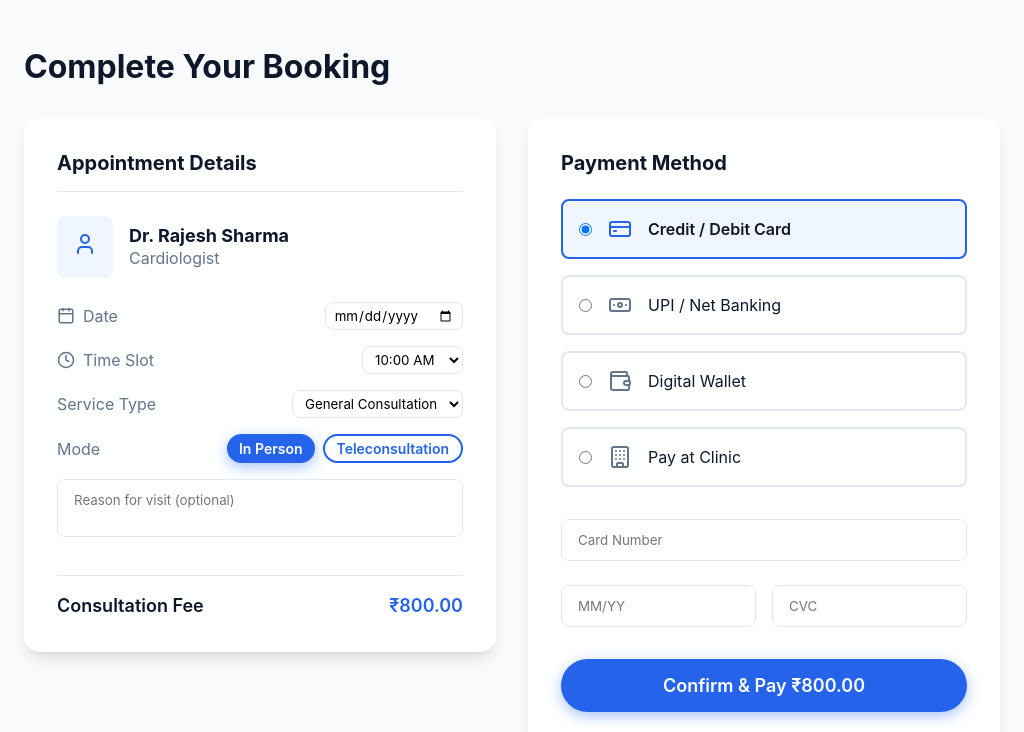
it: Checkout appointment booking form › validates required appointment date
Click the button "Confirm & Pay ₹800.00" at (764, 686), box [561,659,967,712]
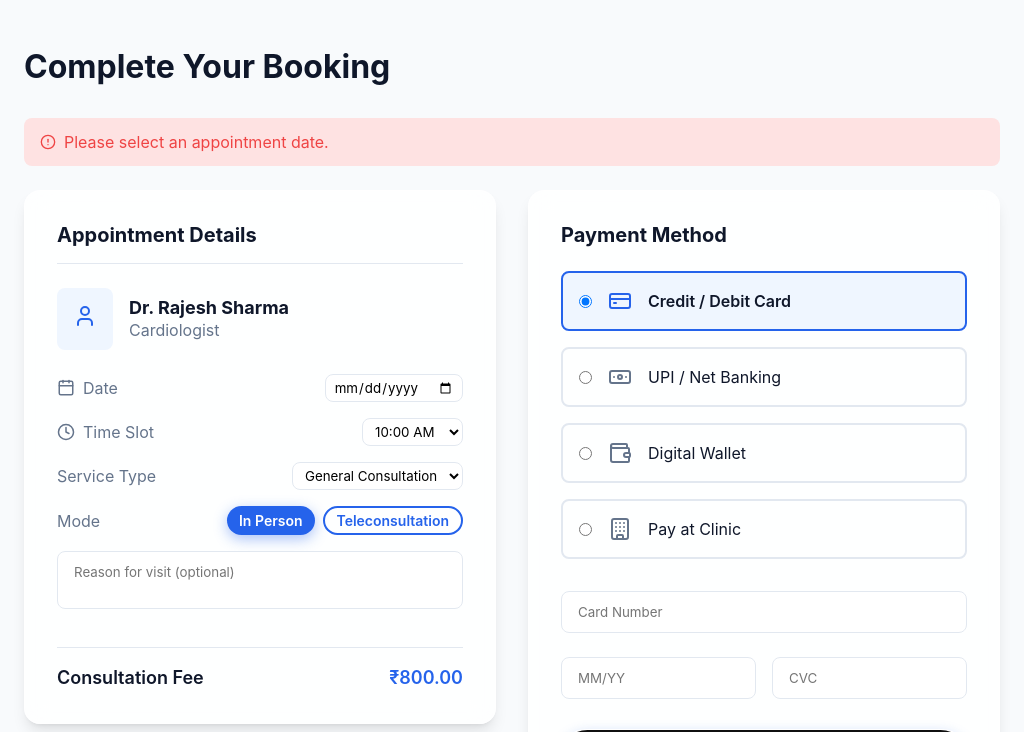
Result: the text "Please select an appointment date." is shown at [24,118,1000,166]
